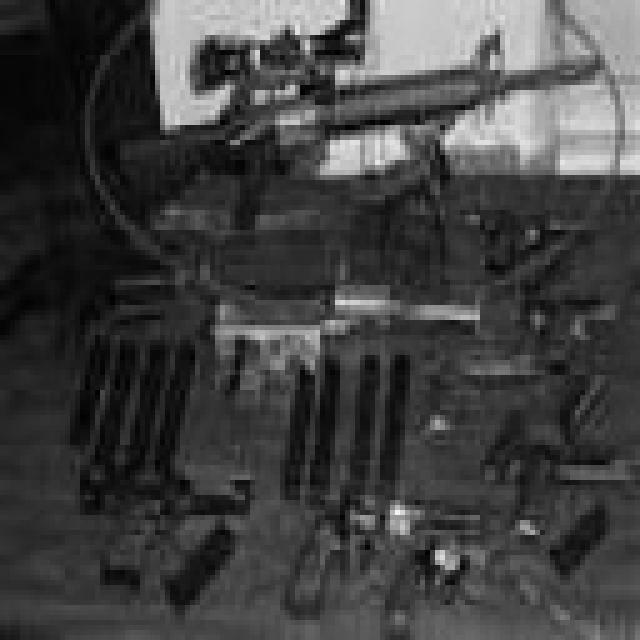Rifle: (87, 0, 602, 254), (510, 268, 628, 396)
